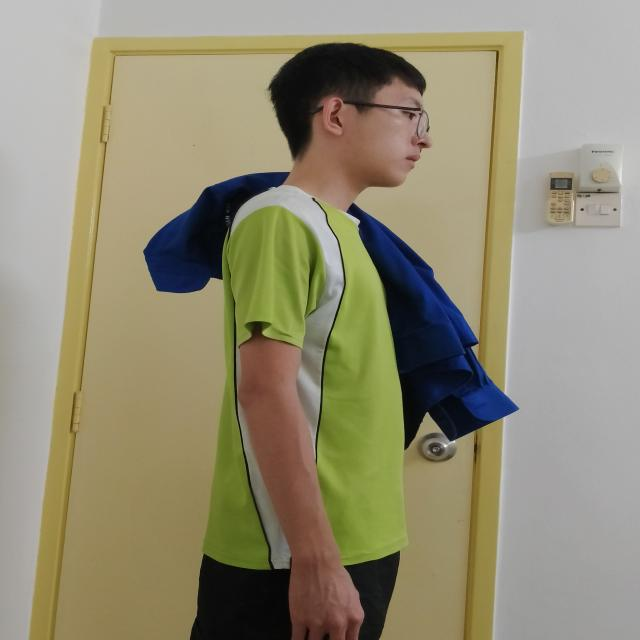person_without_labcoat: (145, 43, 517, 640)
